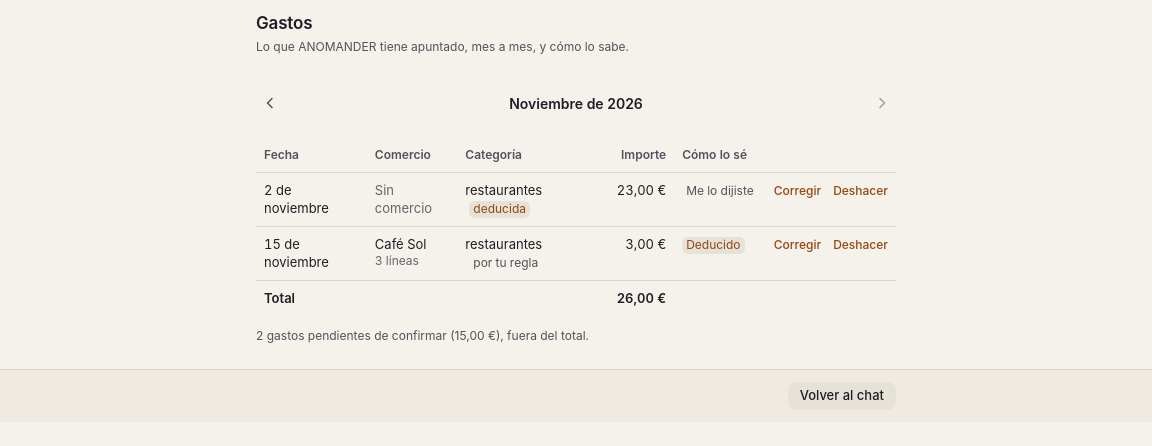
Test: "Corregir" and "Deshacer" on a row (DK-17 AC6) › "Deshacer" asks first; "No deshacer" sends nothing
Click the button "Deshacer" in the row of "2 de noviembre" at (861, 191), box left=833, top=183, right=888, bottom=200
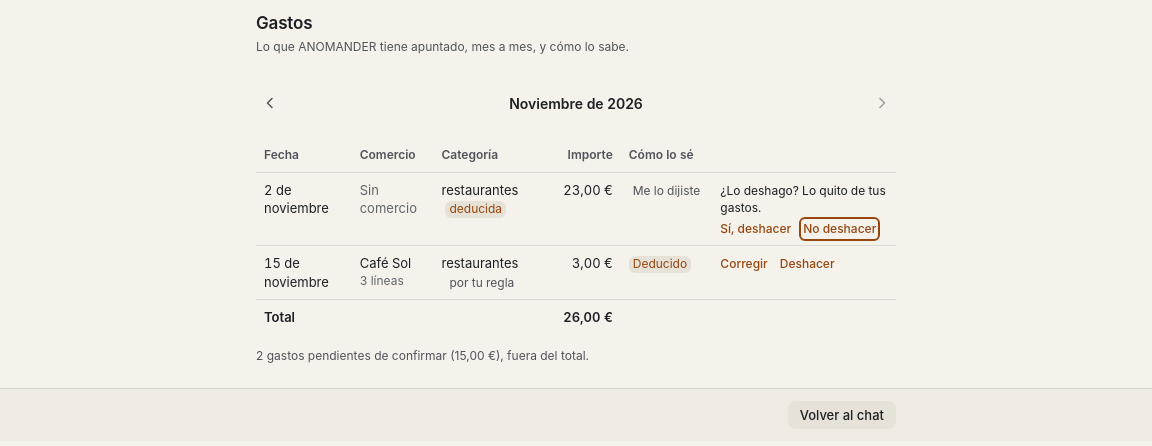
Result: the text "¿Lo deshago? Lo quito de tus gastos." is shown at left=720, top=183, right=888, bottom=217
Click the button "No deshacer" at (840, 229), box left=803, top=221, right=876, bottom=237
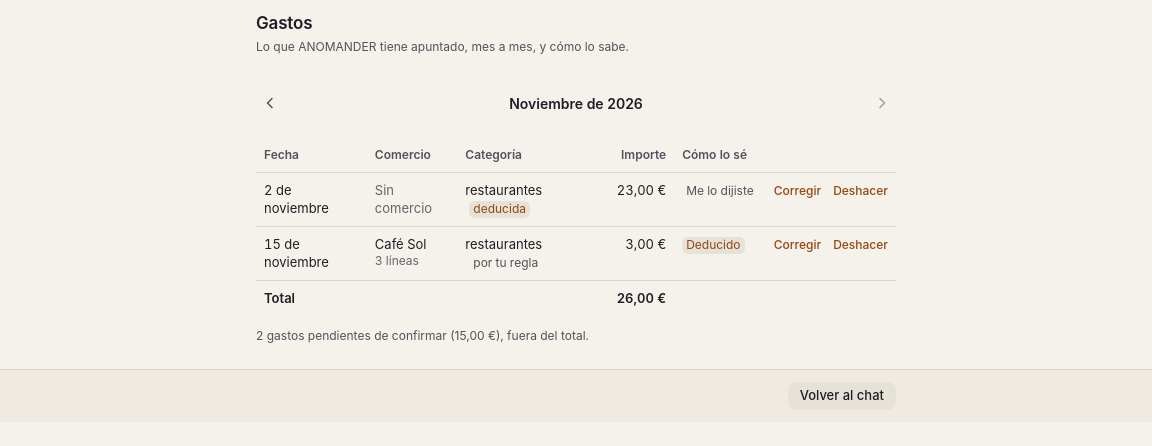
Result: the text "¿Lo deshago? Lo quito de tus gastos." is gone
# Escape closes the question, not the screen.
Click the button "Deshacer" in the row of "2 de noviembre" at (861, 191), box left=833, top=183, right=888, bottom=200
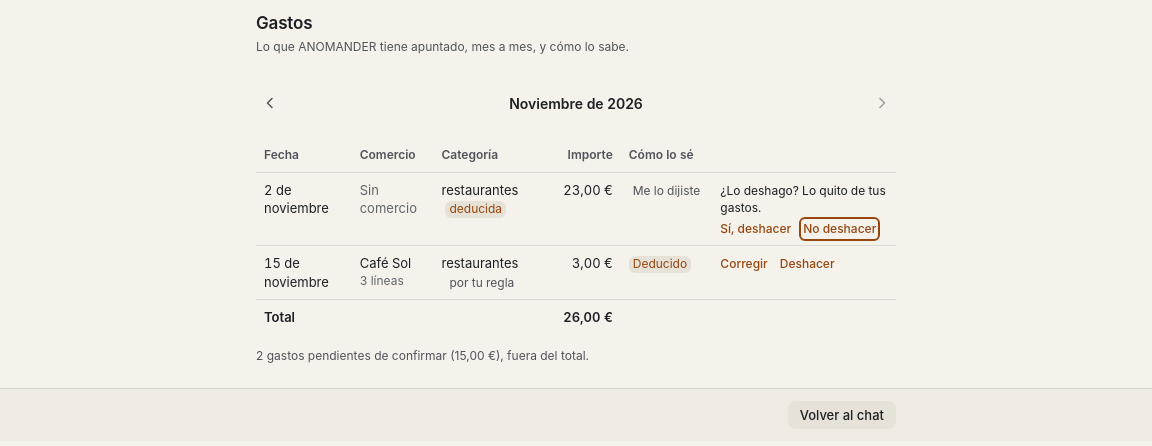
Press Escape in the button "No deshacer", box left=803, top=221, right=876, bottom=237
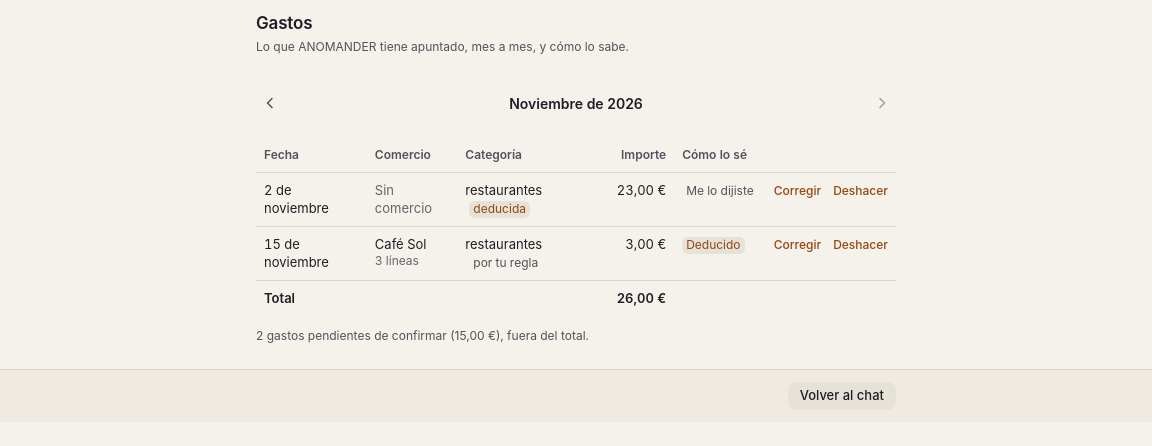
Result: the text "¿Lo deshago? Lo quito de tus gastos." is gone
